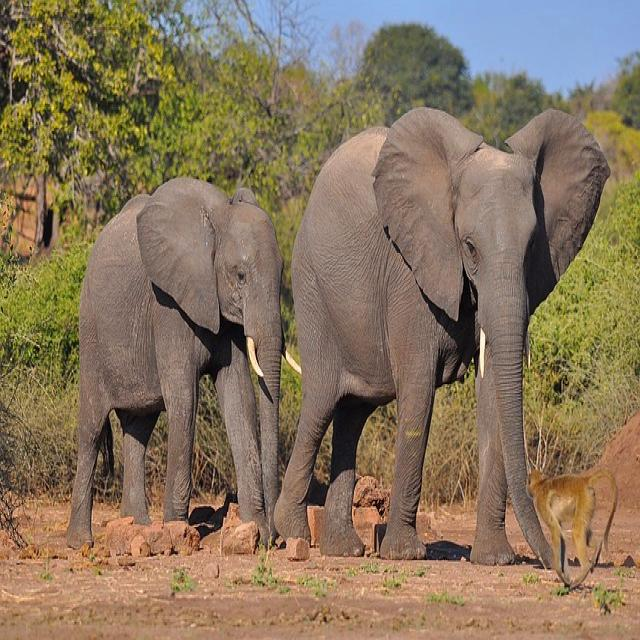FIL: (284, 97, 601, 572), (63, 172, 289, 550)
